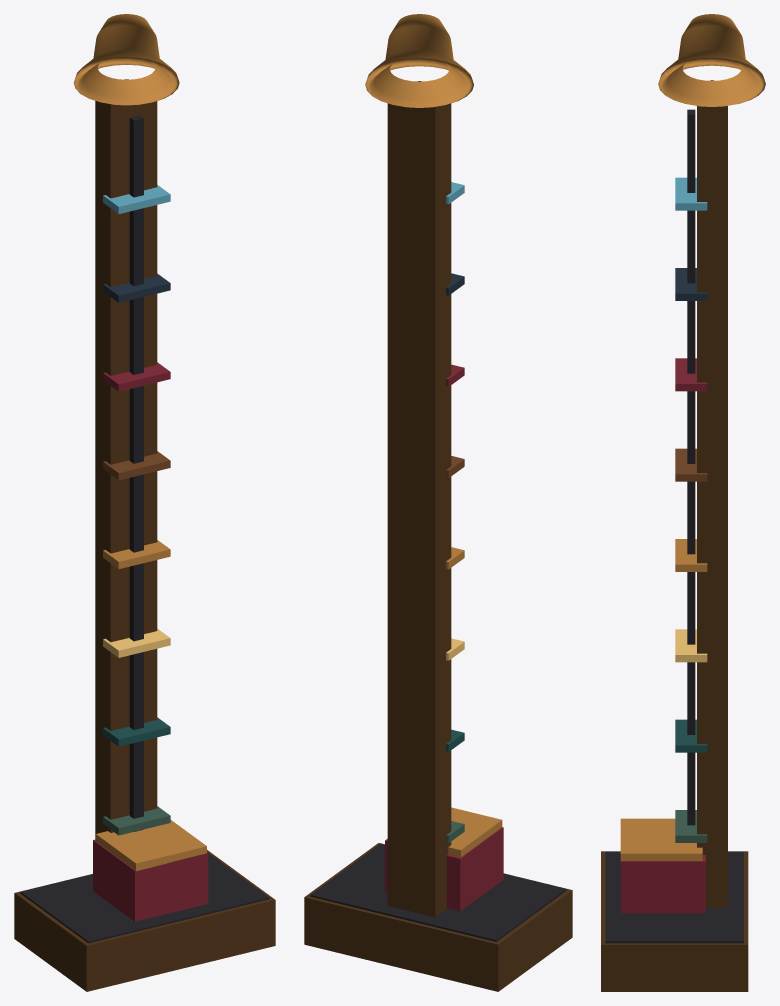
Rendered from mia-strongman.glb.
3 views of the same model, side by side, from view 1: azimuth 30°, elevation 25°; view 2: azimuth 150°, elevation 25°; view 3: azimuth 270°, elevation 25° (orthographic). The views are drawn at different scales.
Parts seen in each view (by area): view 1: Body_wood, Body_iron, Body_brass, Body_velvet, Body_sage, Body_rust, Body_teal, Body_trim, Body_navy-seat, Body_glass; view 2: Body_wood, Body_brass, Body_iron, Body_velvet; view 3: Body_wood, Body_iron, Body_brass, Body_velvet, Body_trim, Body_teal, Body_rust, Body_glass, Body_sage, Body_navy-seat.
Part boxes in pixels (x1,y1,x2,y2): Body_wood: [14, 101, 275, 991]; Body_iron: [20, 79, 269, 943]; Body_brass: [73, 14, 206, 871]; Body_velvet: [93, 362, 208, 921]; Body_sage: [103, 806, 170, 835]; Body_rust: [103, 451, 170, 480]; Body_teal: [103, 717, 170, 746]; Body_trim: [103, 628, 170, 657]; Body_navy-seat: [103, 273, 170, 302]; Body_glass: [103, 185, 170, 213]; Body_wood: [304, 103, 572, 991]; Body_brass: [365, 14, 502, 857]; Body_iron: [310, 81, 566, 941]; Body_velvet: [385, 364, 503, 911]; Body_wood: [601, 106, 748, 991]; Body_iron: [605, 80, 743, 943]; Body_brass: [620, 14, 765, 860]; Body_velvet: [620, 358, 707, 913]; Body_trim: [675, 629, 707, 662]; Body_teal: [675, 719, 707, 752]; Body_rust: [675, 448, 707, 481]; Body_glass: [675, 177, 707, 210]; Body_sage: [675, 810, 707, 842]; Body_navy-seat: [675, 268, 707, 300].
Bounding box in the file's own units: 0.897 × 4.12 × 0.667.
